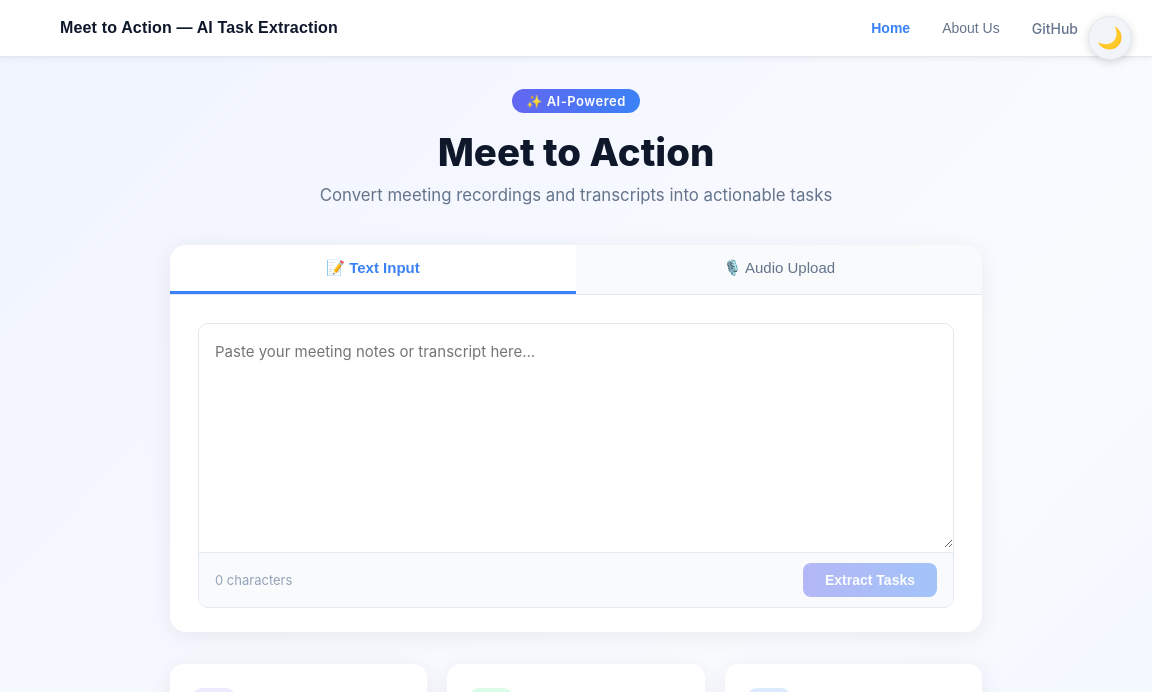
Test: navigates to About Us page from navbar and updates URL route
Click the button "About Us".
click(971, 28)  # box [928,14,1014,42]
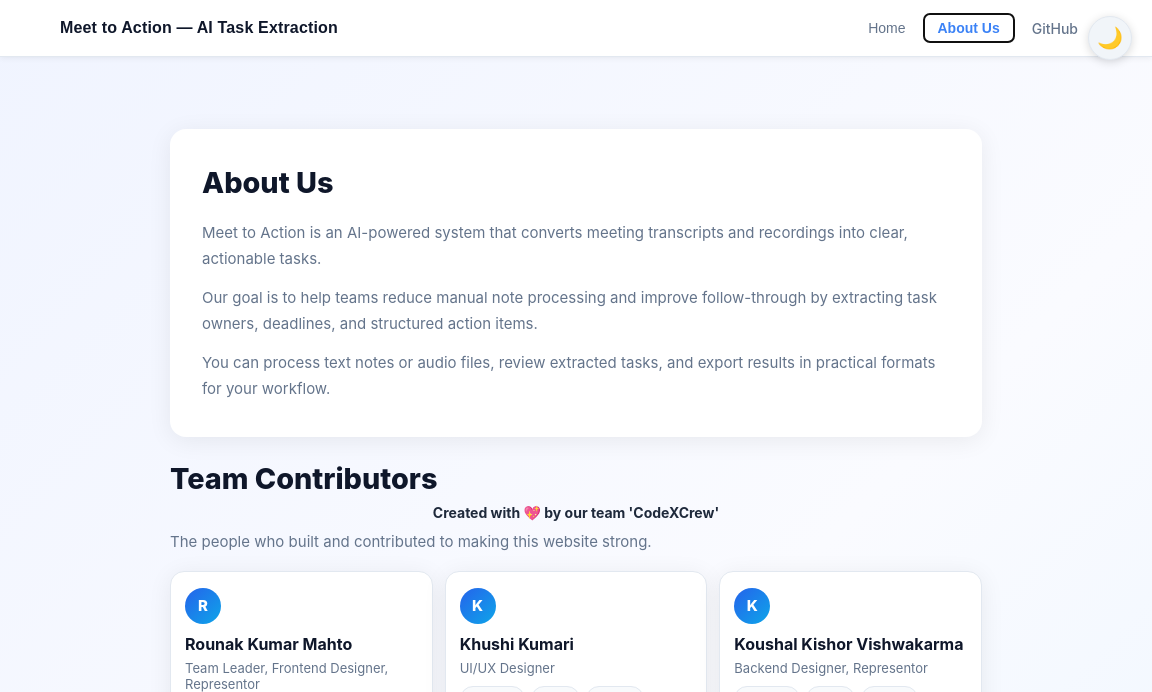
Expected: the heading "About Us" is shown, [202,165,333,200]
Expected: the text "✨ AI-Powered" is gone
